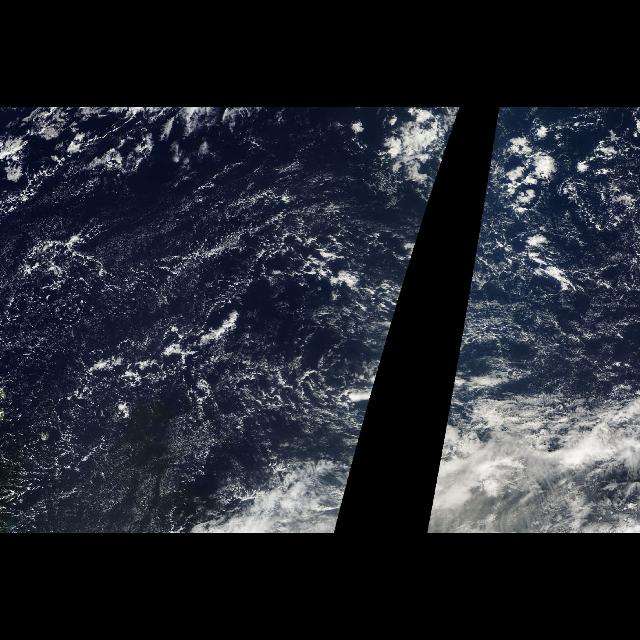Fish: (427, 391, 637, 532), (238, 391, 374, 532)
Gravel: (4, 204, 426, 462), (485, 222, 637, 412)
Sugar: (1, 218, 423, 406), (449, 218, 639, 406), (66, 452, 214, 532)
